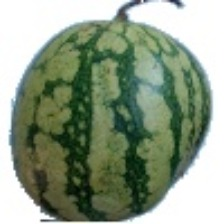watermelon: (37, 20, 204, 159)
